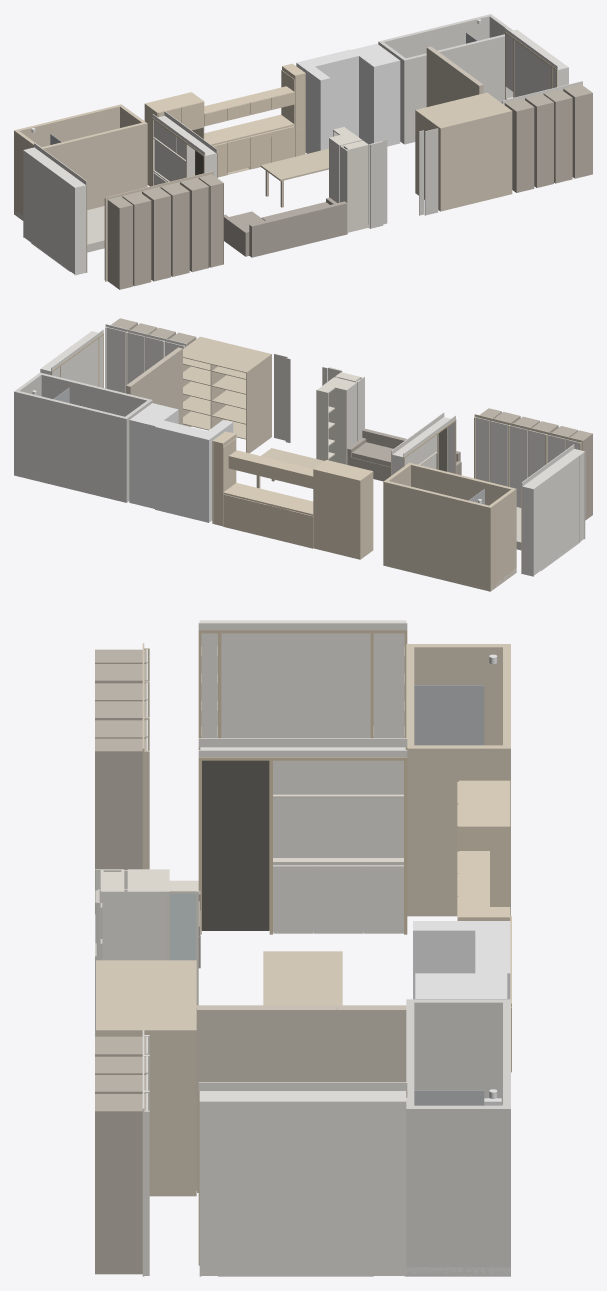
Rendered from 26A011_arredo_completo.glb.
The picture shows the model from 3 angles, top to bottom: view 1: azimuth 30°, elevation 25°; view 2: azimuth 150°, elevation 25°; view 3: azimuth 270°, elevation 25°; orthographic projection. The views are drawn at different scales.
Parts seen in each view (by area): view 1: cucina__R_cucina, lavanderia__R_lavanderia, bagno_ant_muri__muro, bagno_post_muri__muro, libreria__struttura_003, plo_ingresso__R_plo_ingresso, divano__schienale, parete_letto_master__PLT_197_SCHIENA, parete_divisoria__TELAIO, libreria__struttura_004, ingresso_living__SC_02_FIANCO_SX, parete_letto_doppia__PLT_196_PANNELLO_TESTATA (+25 smaller); view 2: bagno_ant_muri__muro, bagno_post_muri__muro, cucina__R_cucina, lavanderia__R_lavanderia, parete_letto_master__PLT_197_SCHIENA, libreria__struttura, parete_divisoria__TELAIO, libreria__struttura_004, plo_ingresso__R_plo_ingresso, ingresso_living__LB_23_FIANCO_DX, colonna_220__R_colonna_220, armadio_doppia__AD4_49_ANTA (+30 smaller); view 3: bagno_post_muri__muro, parete_letto_doppia__PLT_197_SCHIENA, bagno_ant_muri__muro, parete_letto_master__PLT_196_PANNELLO_TESTATA, parete_div_master__DVP_115_PANNELLO_PORTA, libreria__struttura_002, armadio_doppia__AD4_47_FIANCO_SX, parete_div_master__DVT_165_PANNELLO_TV_LIVING, lavanderia__R_lavanderia, cucina__R_cucina, libreria__struttura_004, parete_divisoria__PANNELLO_40_002 (+30 smaller).
Part boxes in pixels (x1,y1,x2,y2): cucina__R_cucina: (144,70,305,186); lavanderia__R_lavanderia: (296,43,400,153); bagno_ant_muri__muro: (14,104,147,220); bagno_post_muri__muro: (378,14,512,144); libreria__struttura_003: (440,111,512,211); plo_ingresso__R_plo_ingresso: (368,128,438,228); divano__schienale: (249,201,347,257); parete_letto_master__PLT_197_SCHIENA: (32,157,69,270); parete_divisoria__TELAIO: (426,47,481,106); libreria__struttura_004: (415,92,510,127); ingresso_living__SC_02_FIANCO_SX: (347,144,368,232); parete_letto_doppia__PLT_196_PANNELLO_TESTATA: (514,40,551,97); bagno_ant_muri__muro: (383,462,516,591); bagno_post_muri__muro: (14,372,152,502); cucina__R_cucina: (223,438,373,559); lavanderia__R_lavanderia: (129,403,233,522); parete_letto_master__PLT_197_SCHIENA: (542,456,579,568); libreria__struttura: (246,354,271,453); parete_divisoria__TELAIO: (128,348,182,424); libreria__struttura_004: (183,337,271,372); plo_ingresso__R_plo_ingresso: (274,353,342,442); ingresso_living__LB_23_FIANCO_DX: (324,384,347,464); colonna_220__R_colonna_220: (212,431,236,526); armadio_doppia__AD4_49_ANTA: (107,327,125,392); bagno_post_muri__muro: (406,999,510,1276); parete_letto_doppia__PLT_197_SCHIENA: (221,1103,370,1275); bagno_ant_muri__muro: (406,644,510,916); parete_letto_master__PLT_196_PANNELLO_TESTATA: (221,633,370,738); parete_div_master__DVP_115_PANNELLO_PORTA: (202,760,269,930); libreria__struttura_002: (96,1029,196,1196); armadio_doppia__AD4_47_FIANCO_SX: (95,1110,142,1274); parete_div_master__DVT_165_PANNELLO_TV_LIVING: (273,798,403,857); lavanderia__R_lavanderia: (413,921,510,999); cucina__R_cucina: (457,780,511,1072); libreria__struttura_004: (96,960,196,1031); parete_divisoria__PANNELLO_40_002: (223,1008,311,1082).
Size of the model in its own units: 12.93 by 2.3 by 4.73.
